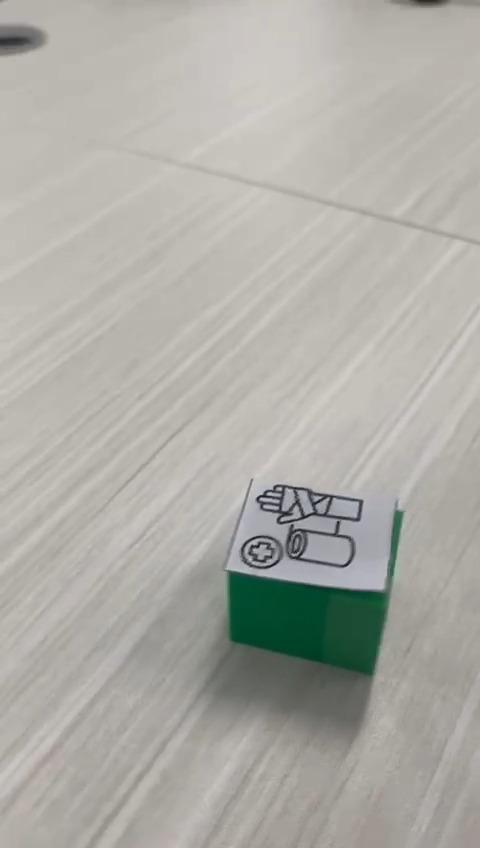Bandages: (223, 477, 406, 676)
